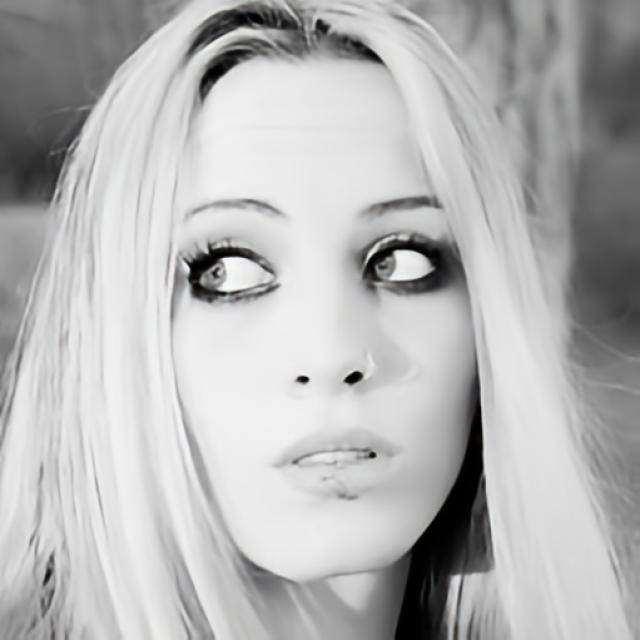Fear: (168, 50, 479, 585)
